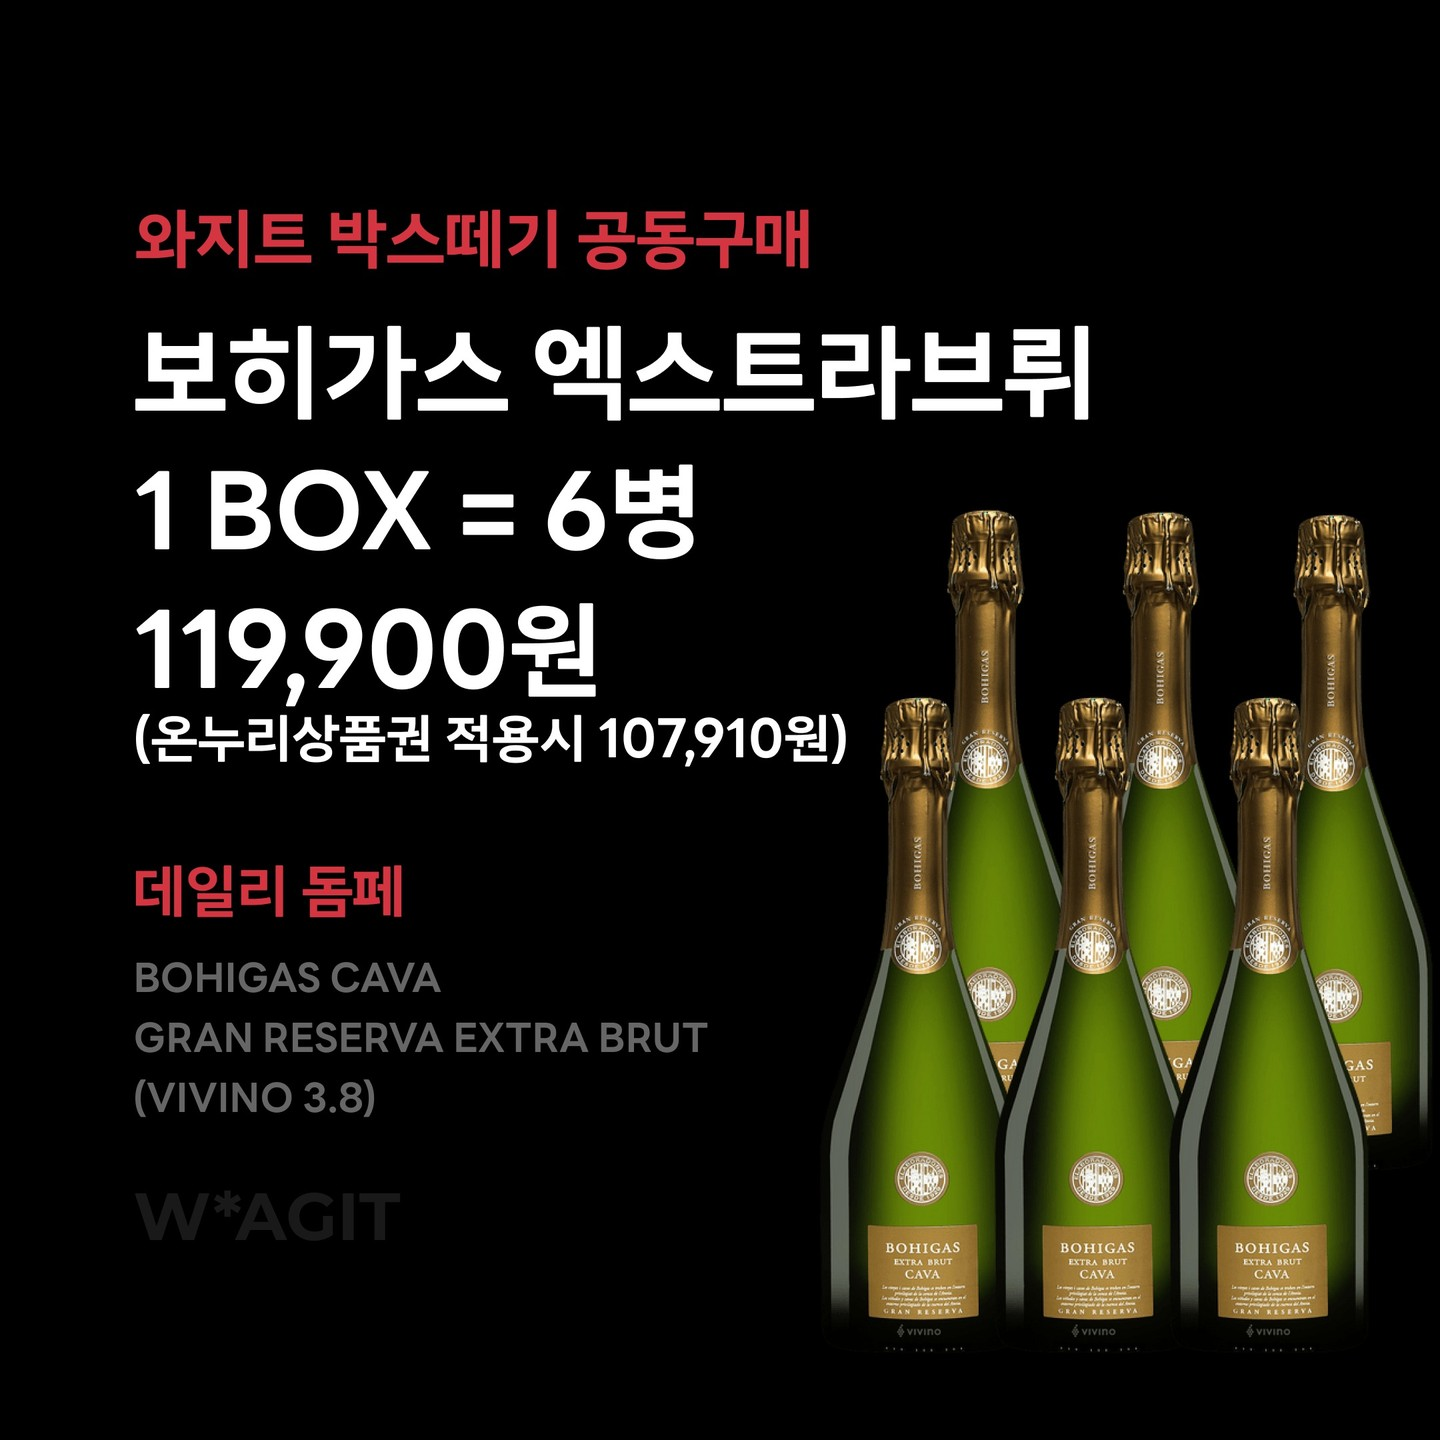alcohol: (814, 686, 1029, 1362), (1167, 688, 1374, 1369), (994, 686, 1201, 1360), (1240, 504, 1440, 1199), (918, 502, 1080, 1196), (1083, 502, 1236, 1199)
